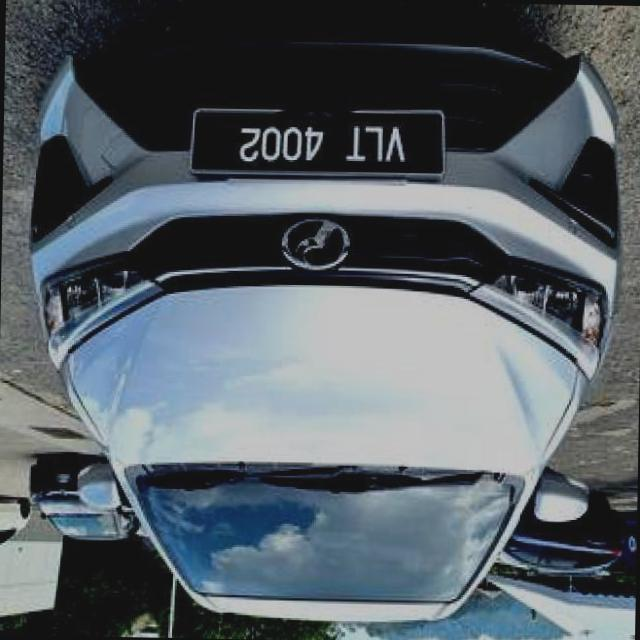PeroduaBezza: (22, 27, 625, 629)
